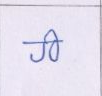i_matra: (47, 29, 60, 61)
